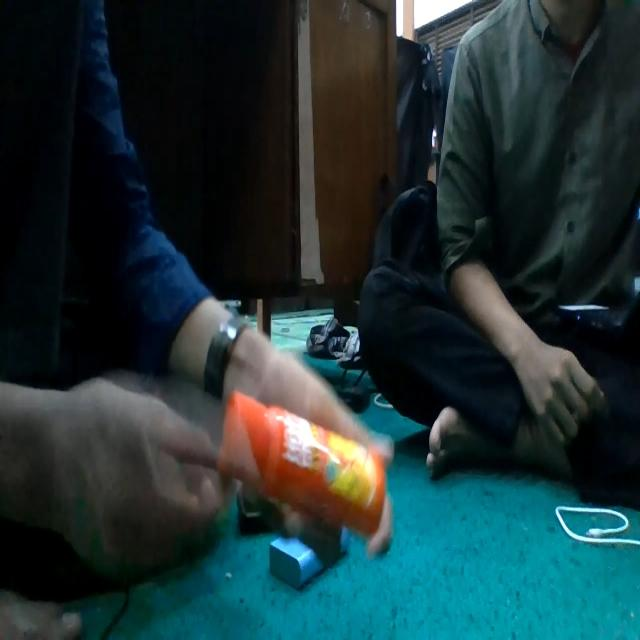Boncabe: (224, 393, 386, 533)
Powerbank: (270, 537, 331, 588), (340, 530, 350, 557)
